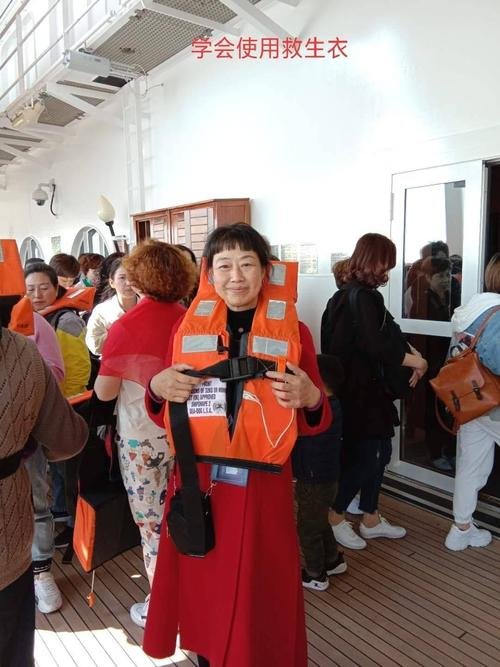other_clothes: (106, 299, 183, 446), (330, 282, 406, 427), (452, 288, 500, 409), (41, 302, 96, 405)
reflective_clothes: (187, 250, 309, 474)
